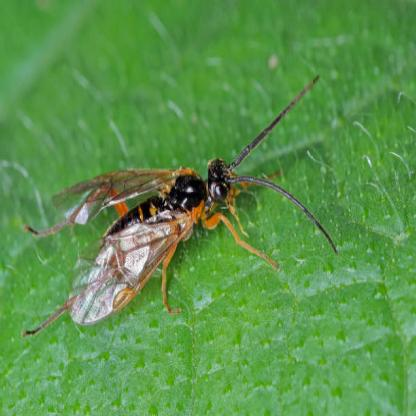sawfly: (19, 70, 344, 334)
